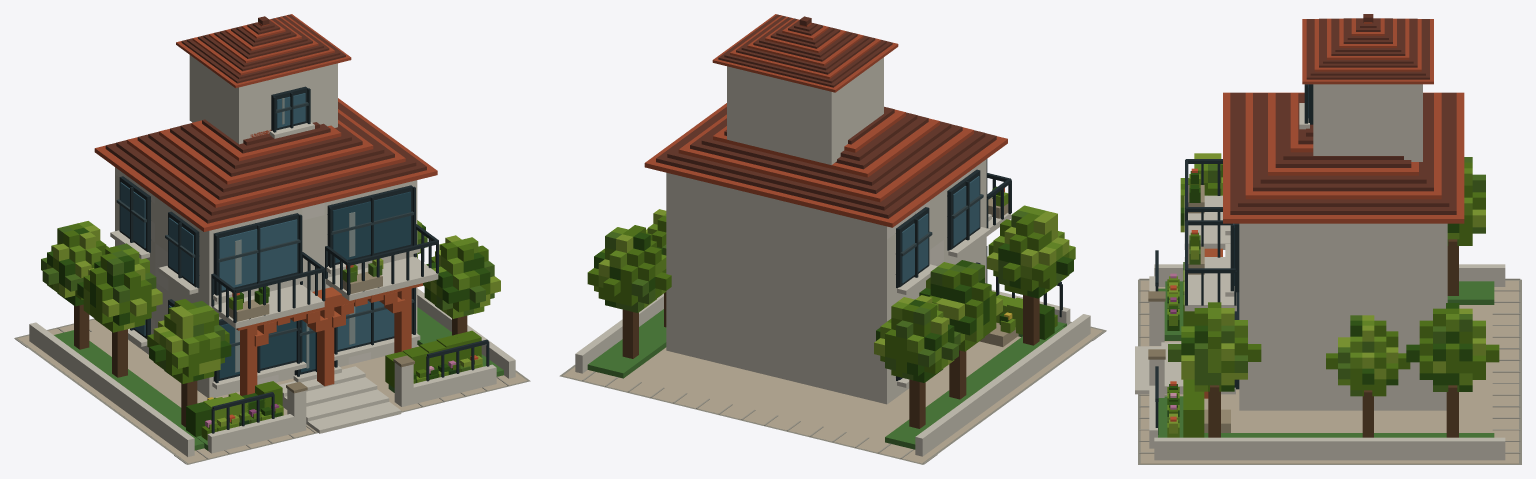
The model's file is SM_Mapa_018.fbx.
3 views of the same model, side by side, from view 1: azimuth 30°, elevation 25°; view 2: azimuth 150°, elevation 25°; view 3: azimuth 270°, elevation 25° (orthographic). The views are drawn at different scales.
Visible parts, largest first — view 1: SM_Mapa_018; view 2: SM_Mapa_018; view 3: SM_Mapa_018.
Part boxes in pixels (box(x1,y1,x2,y2)): SM_Mapa_018: box(14, 14, 530, 464); SM_Mapa_018: box(559, 14, 1106, 464); SM_Mapa_018: box(1135, 14, 1521, 464).
Bounding box in the file's own units: 8 × 7.04 × 7.25.
